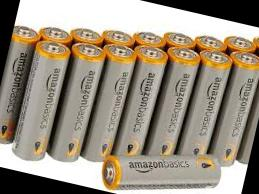battery: (84, 123, 241, 194), (0, 31, 71, 161), (41, 35, 105, 168), (75, 36, 141, 164), (173, 43, 234, 164), (107, 41, 168, 158), (142, 42, 202, 157)
